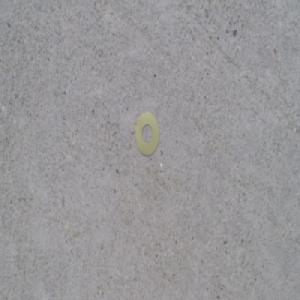Washer: (136, 110, 162, 159)
